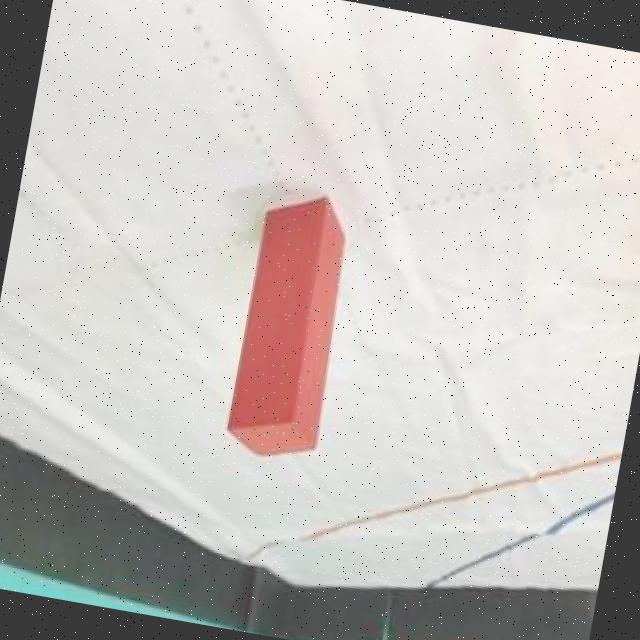redbox: (218, 182, 359, 464)
